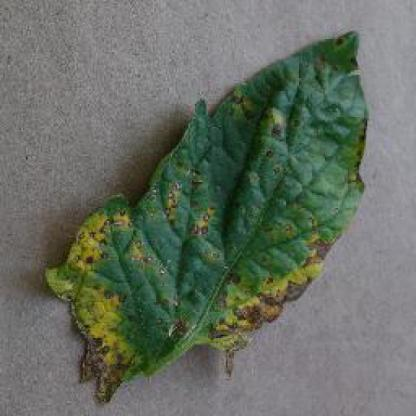Tomato_Blight: (46, 30, 370, 402)
